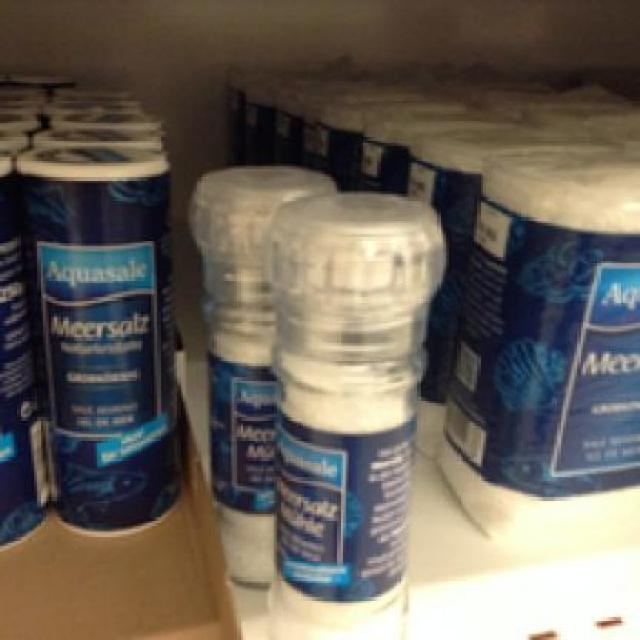Spices: (268, 188, 446, 638), (440, 142, 637, 538), (12, 137, 175, 532), (185, 163, 321, 583)
